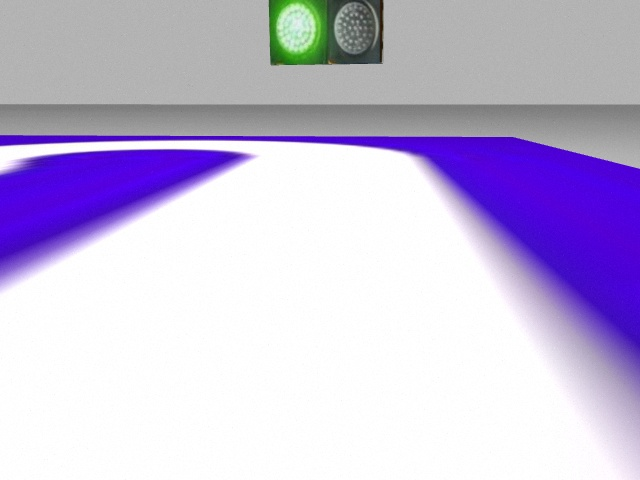green: (269, 1, 328, 66)
